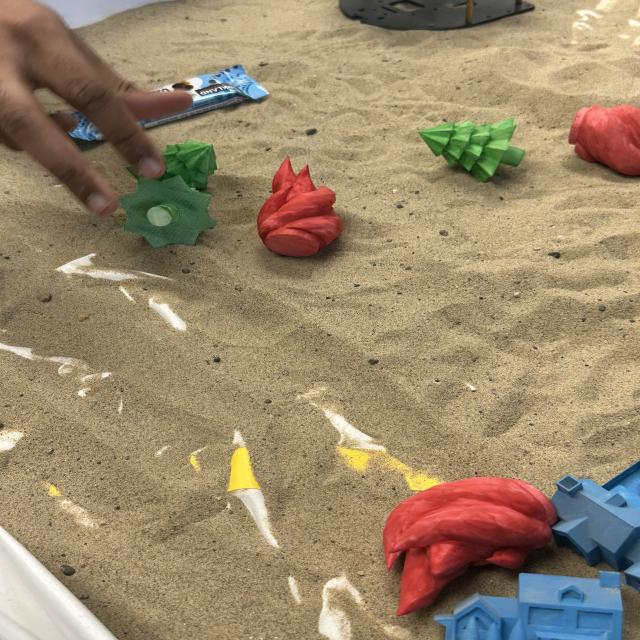fire: (385, 478, 556, 617), (254, 154, 344, 258), (567, 103, 640, 181)
house: (444, 571, 628, 640), (553, 462, 640, 582)
tree: (416, 114, 527, 183), (119, 176, 212, 248), (158, 144, 222, 174)
